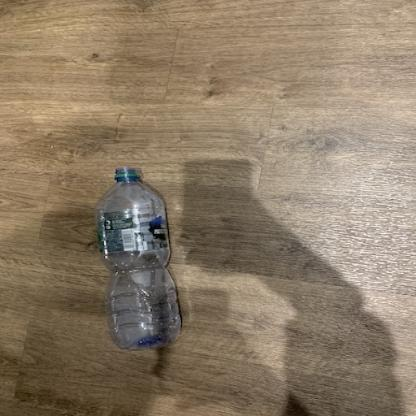trash: (98, 164, 183, 354)
